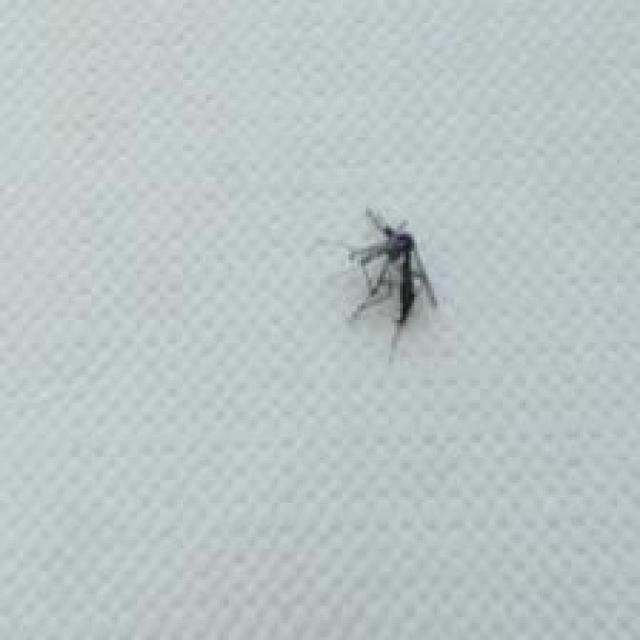Aedes albopictus: (343, 204, 440, 364)
